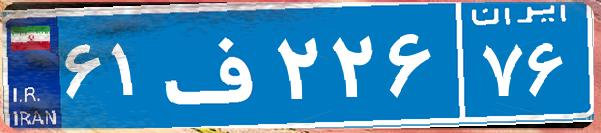1: (110, 28, 158, 105)
2: (273, 28, 330, 110), (330, 28, 385, 110)
6: (385, 28, 445, 110), (57, 26, 110, 107), (525, 38, 570, 115)
7: (475, 38, 525, 113)
ف: (158, 15, 273, 115)
